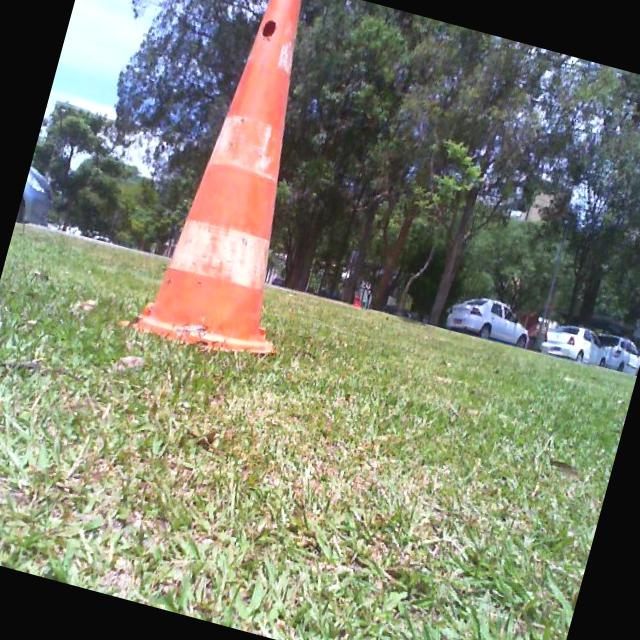Cone: (137, 0, 365, 360)
